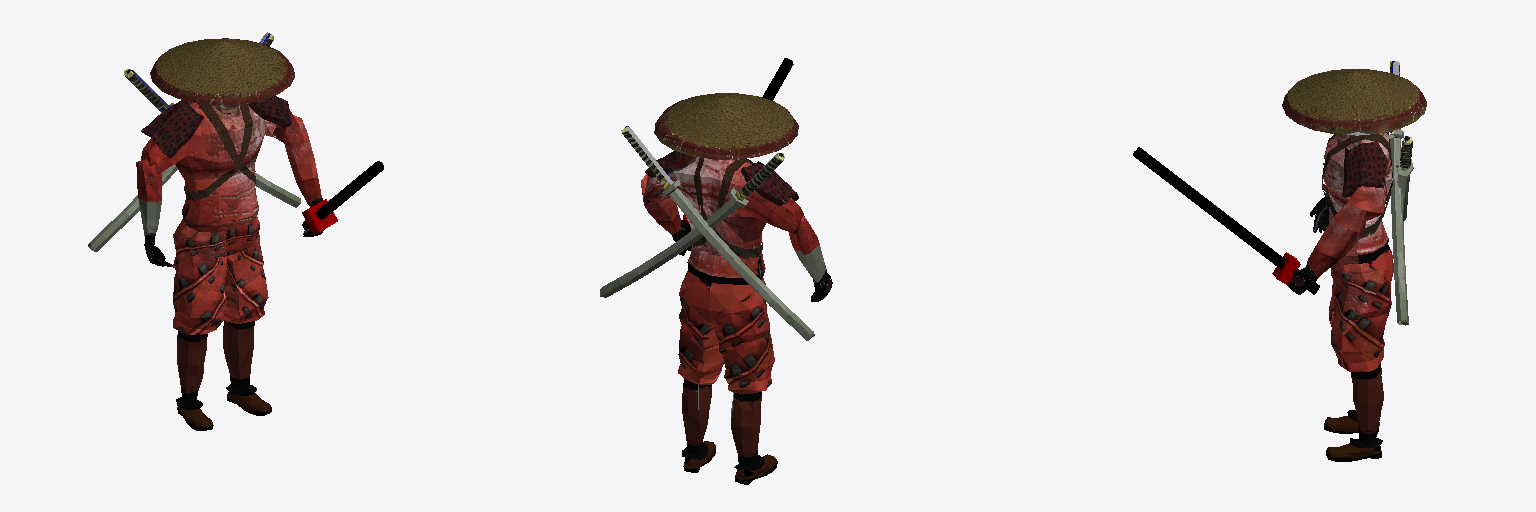
3 renders of one model, left to right at view 1: azimuth 30°, elevation 25°; view 2: azimuth 150°, elevation 25°; view 3: azimuth 270°, elevation 25°, orthographic.
Visible parts, largest first — view 1: ThirdStand:group ThirdStand:pasted__polySurface72 ThirdStand:pol, ThirdStand:pCylinder1 ThirdStand:polySurface4 ThirdStand:polySur, ThirdStand:pCube1 ThirdStand:polySurface4 ThirdStand:polySurface; view 2: ThirdStand:group ThirdStand:pasted__polySurface72 ThirdStand:pol, ThirdStand:pCylinder1 ThirdStand:polySurface4 ThirdStand:polySur; view 3: ThirdStand:group ThirdStand:pasted__polySurface72 ThirdStand:pol, ThirdStand:pCylinder1 ThirdStand:polySurface4 ThirdStand:polySur.
Boxes of the visible parts, x1,y1,x2,y2 form: ThirdStand:group ThirdStand:pasted__polySurface72 ThirdStand:pol: [88, 32, 324, 430]; ThirdStand:pCylinder1 ThirdStand:polySurface4 ThirdStand:polySur: [302, 161, 383, 229]; ThirdStand:pCube1 ThirdStand:polySurface4 ThirdStand:polySurface: [302, 199, 337, 234]; ThirdStand:group ThirdStand:pasted__polySurface72 ThirdStand:pol: [600, 93, 832, 484]; ThirdStand:pCylinder1 ThirdStand:polySurface4 ThirdStand:polySur: [679, 58, 793, 255]; ThirdStand:group ThirdStand:pasted__polySurface72 ThirdStand:pol: [1282, 61, 1426, 461]; ThirdStand:pCylinder1 ThirdStand:polySurface4 ThirdStand:polySur: [1133, 147, 1319, 294].
Bounding box in the file's own units: 0.8036 × 1.35 × 0.9696.
3 materials, 1 textured.